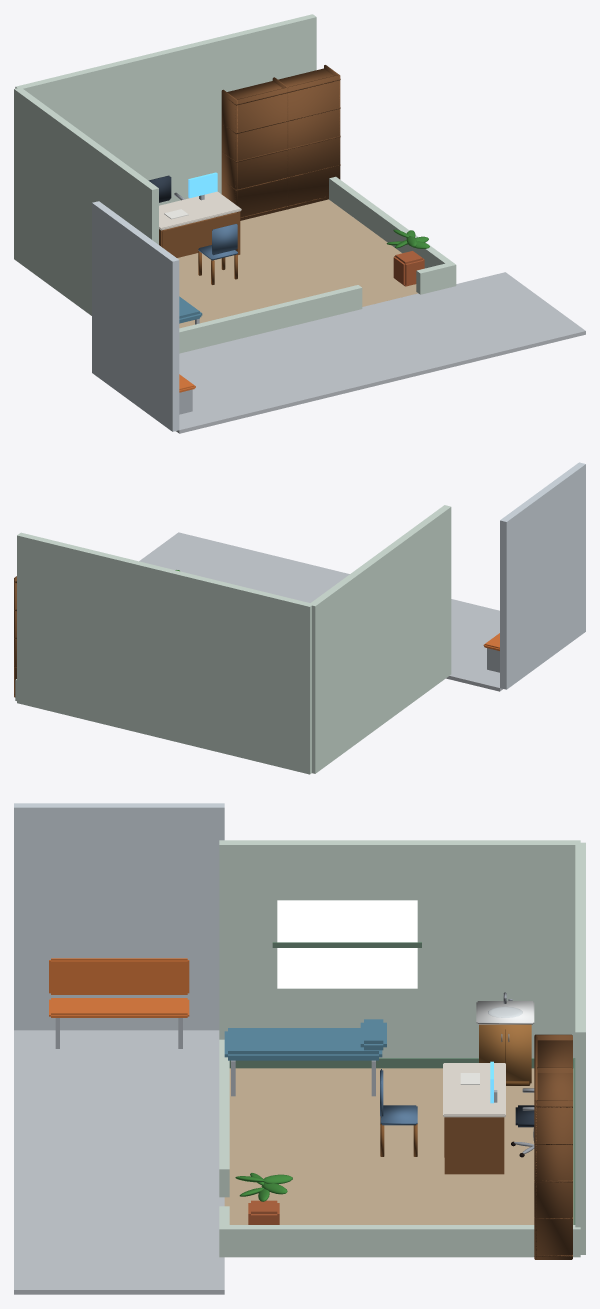
The model's file is room.glb.
3 renders of one model, top to bottom at view 1: azimuth 30°, elevation 25°; view 2: azimuth 150°, elevation 25°; view 3: azimuth 270°, elevation 25°, orthographic. The views are drawn at different scales.
Visible parts, largest first — view 1: room, props; view 2: room; view 3: room, props.
Part boxes in pixels (x1,y1,x2,y2): room: [14, 14, 585, 433]; props: [148, 65, 429, 284]; room: [15, 462, 585, 774]; room: [14, 803, 585, 1294]; props: [49, 958, 572, 1259].
Bounding box in the file's own units: 7.12 × 2.86 × 6.52.
